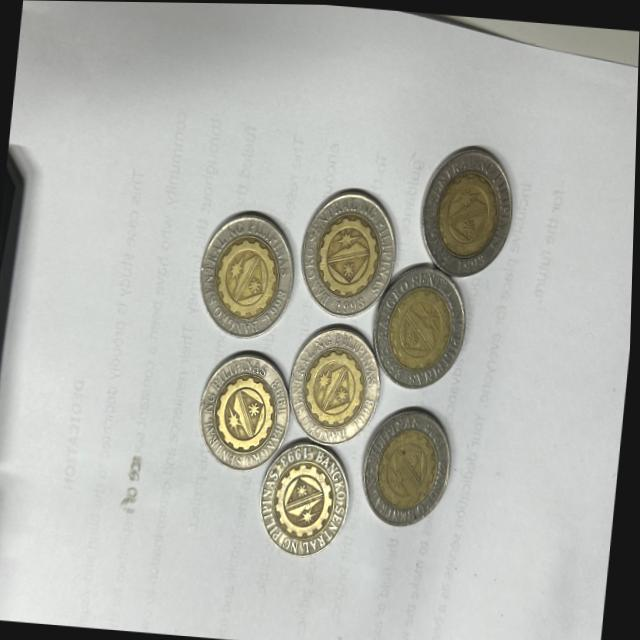10_Old_Back: (196, 213, 295, 340), (424, 147, 511, 268), (377, 263, 462, 385), (288, 328, 379, 440), (199, 353, 288, 467), (259, 439, 344, 553), (303, 198, 388, 308), (367, 412, 451, 521)
